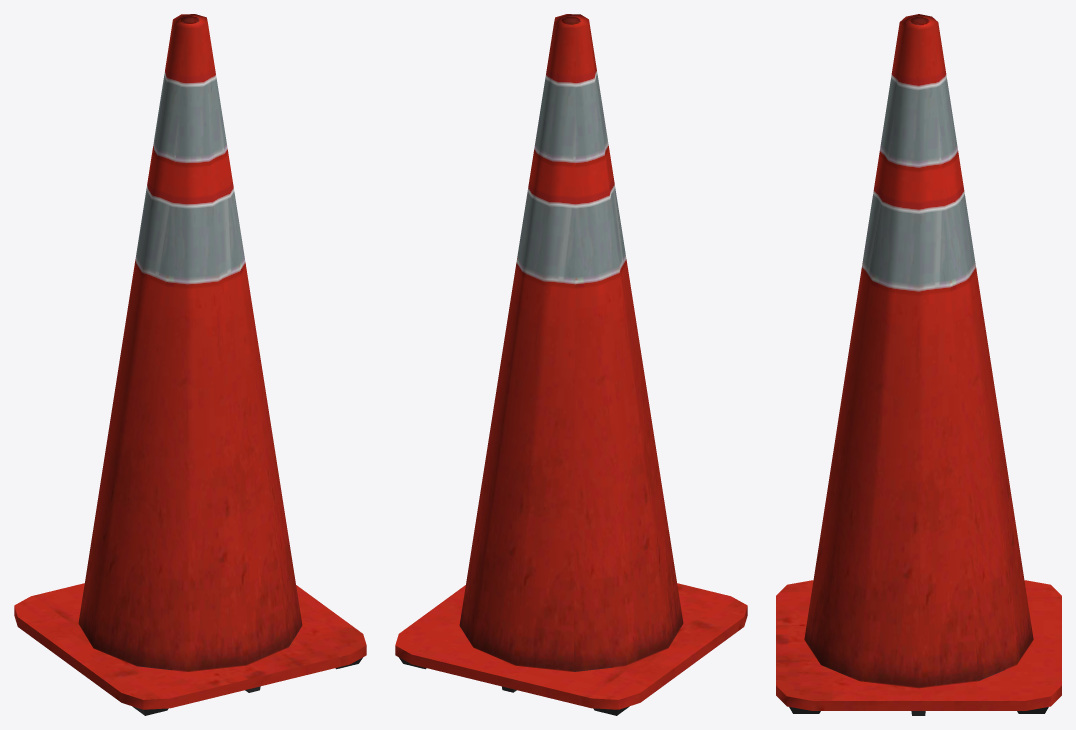
The model's file is VlC.fbx.
3 renders of one model, left to right at view 1: azimuth 30°, elevation 25°; view 2: azimuth 150°, elevation 25°; view 3: azimuth 270°, elevation 25°, orthographic. The views are drawn at different scales.
Visible parts, largest first — view 1: VlC; view 2: VlC; view 3: VlC.
Boxes of the visible parts, x1,y1,x2,y2 form: VlC: (14, 14, 366, 715); VlC: (395, 14, 747, 715); VlC: (776, 14, 1061, 715).
Size of the model in its own units: 723 by 1787 by 723.
